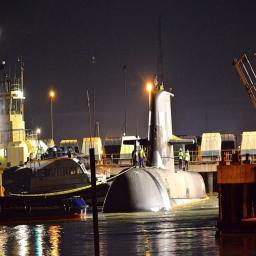submarine: (103, 91, 209, 213)
